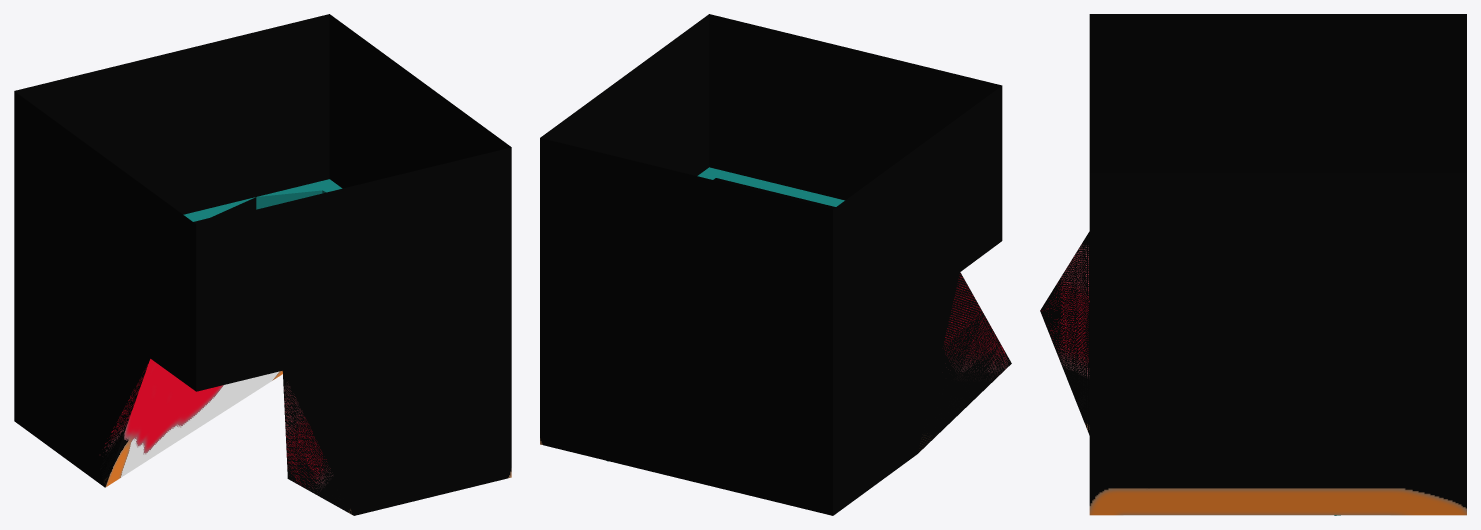
File: Drill_interior_model.glb
3 views of the same model, side by side, from view 1: azimuth 30°, elevation 25°; view 2: azimuth 150°, elevation 25°; view 3: azimuth 270°, elevation 25° (orthographic). The views are drawn at different scales.
Visible parts, largest first — view 1: Cube; view 2: Cube; view 3: Cube.
Boxes of the visible parts, x1,y1,x2,y2 form: Cube: (14,14,511,515); Cube: (540,14,1011,515); Cube: (1040,14,1466,515).
Size of the model in its own units: 11.75 by 10.03 by 11.33.
Materials: 1 (1 with a texture image).
